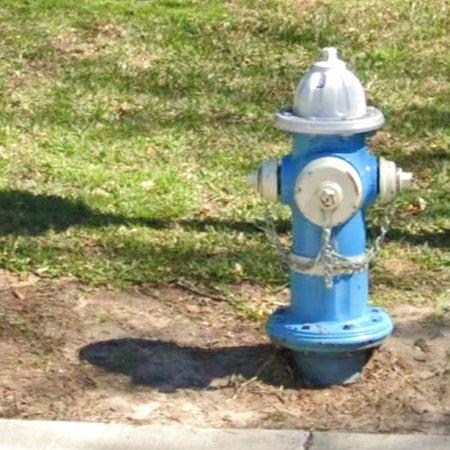a fire hydrant: (254, 47, 413, 386)
